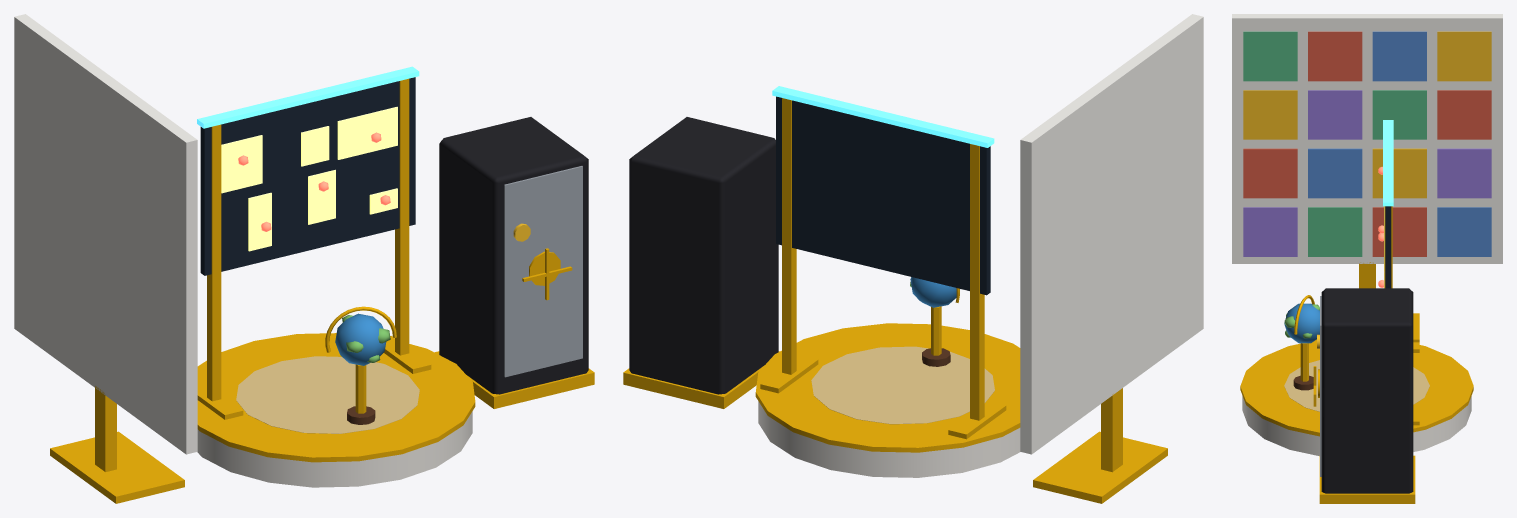
File: station_transport_2.glb
3 views of the same model, side by side, from view 1: azimuth 30°, elevation 25°; view 2: azimuth 150°, elevation 25°; view 3: azimuth 270°, elevation 25° (orthographic). The views are drawn at different scales.
Parts seen in each view (by area): view 1: station_transport_2; view 2: station_transport_2; view 3: station_transport_2.
Boxes of the visible parts, left/top/right/bottom form: station_transport_2: left=14, top=14, right=594, bottom=503; station_transport_2: left=623, top=14, right=1203, bottom=503; station_transport_2: left=1232, top=14, right=1502, bottom=503.
Size of the model in its own units: 2.1 by 1.65 by 1.3.
